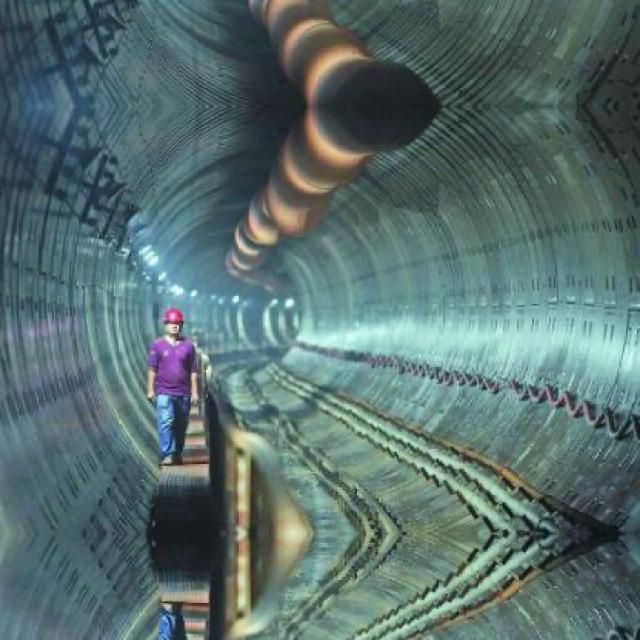helmet: (163, 306, 185, 340)
